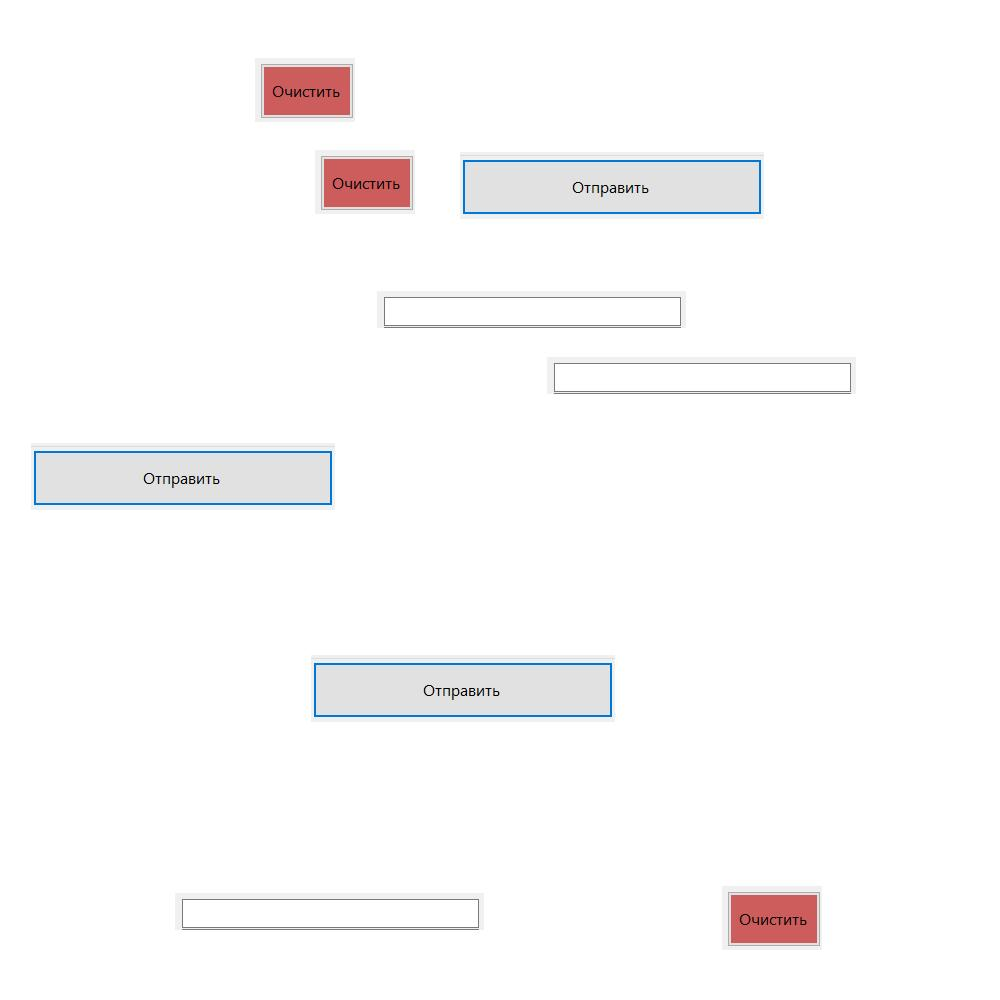Button: (460, 152, 764, 219), (311, 655, 615, 722), (31, 443, 335, 510), (255, 58, 355, 122), (315, 150, 415, 214), (722, 886, 822, 950)
EditText-: (175, 893, 484, 930), (377, 291, 686, 328), (547, 357, 856, 394)
